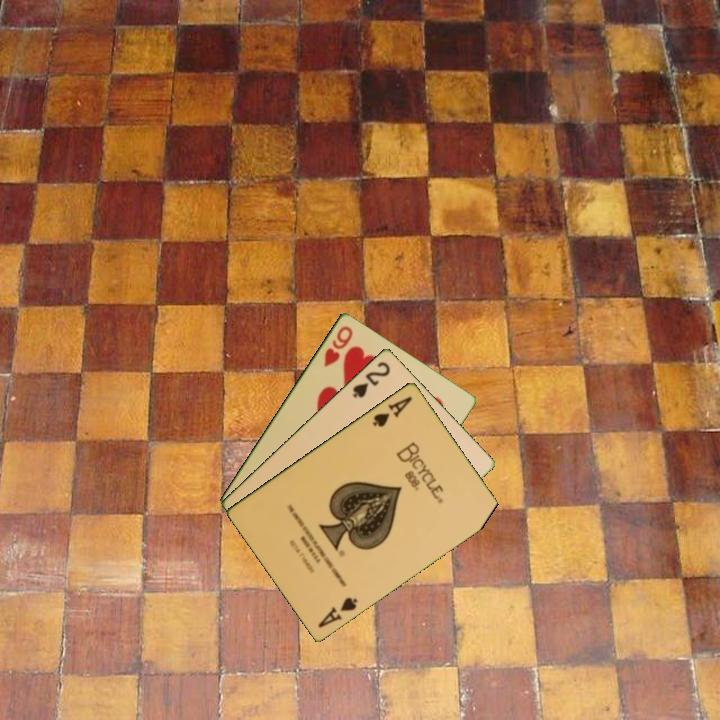2s: (349, 358, 393, 400)
9h: (320, 322, 356, 370)
As: (369, 392, 415, 430), (314, 593, 361, 630)
